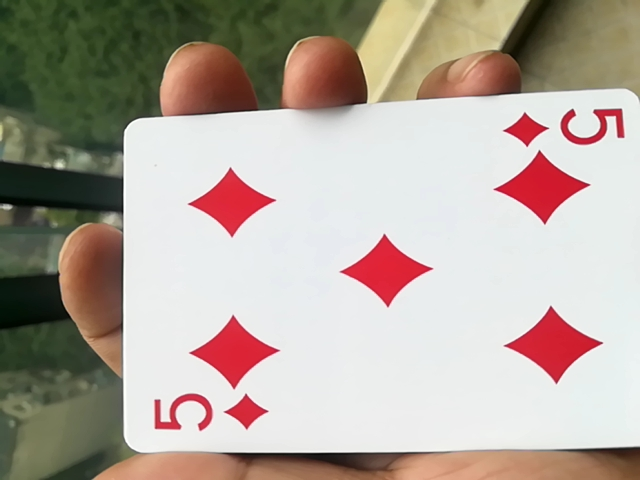fk 5: (112, 95, 636, 469)
